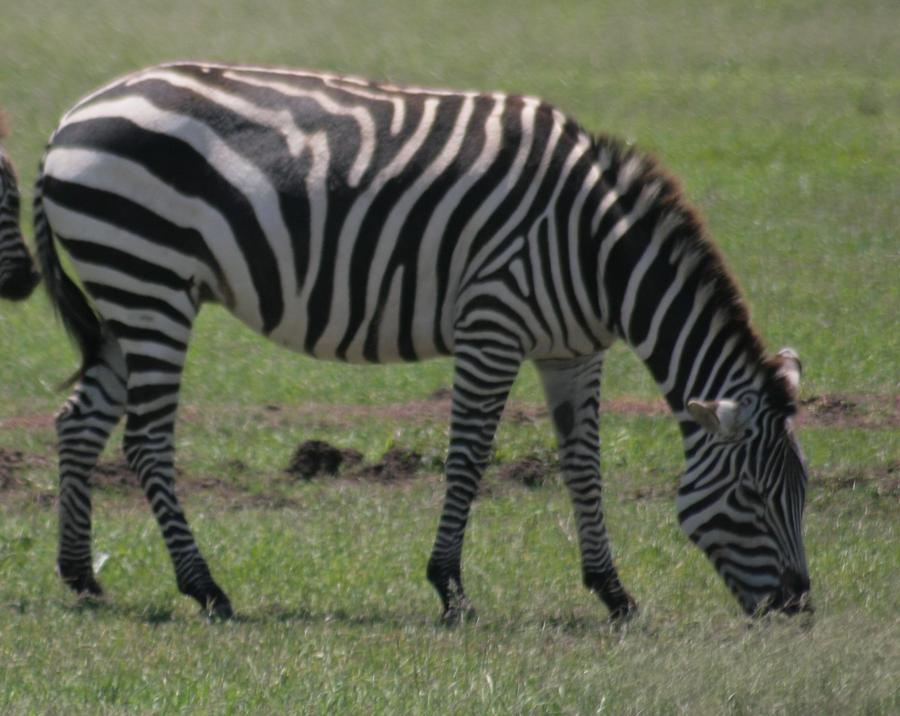zebra_plains: (41, 58, 589, 348)
